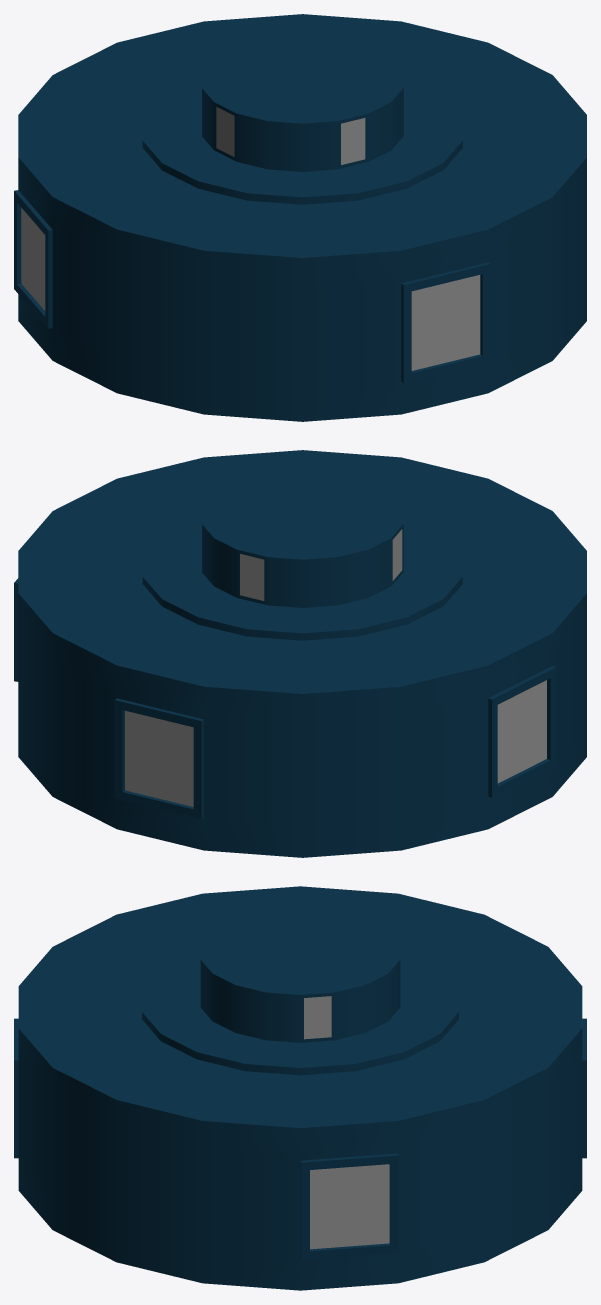
Rendered from usina_SaoSimao_geradora.FBX.
The picture shows the model from 3 angles, top to bottom: view 1: azimuth 30°, elevation 25°; view 2: azimuth 150°, elevation 25°; view 3: azimuth 270°, elevation 25°; orthographic projection.
Visible parts, largest first — view 1: usina_SaoSimao_geradora; view 2: usina_SaoSimao_geradora; view 3: usina_SaoSimao_geradora.
Part boxes in pixels (left/top/right/bottom): usina_SaoSimao_geradora: left=14, top=14, right=586, bottom=421; usina_SaoSimao_geradora: left=14, top=450, right=586, bottom=857; usina_SaoSimao_geradora: left=14, top=886, right=586, bottom=1290.
Bounding box in the file's own units: 323 × 133 × 318.
